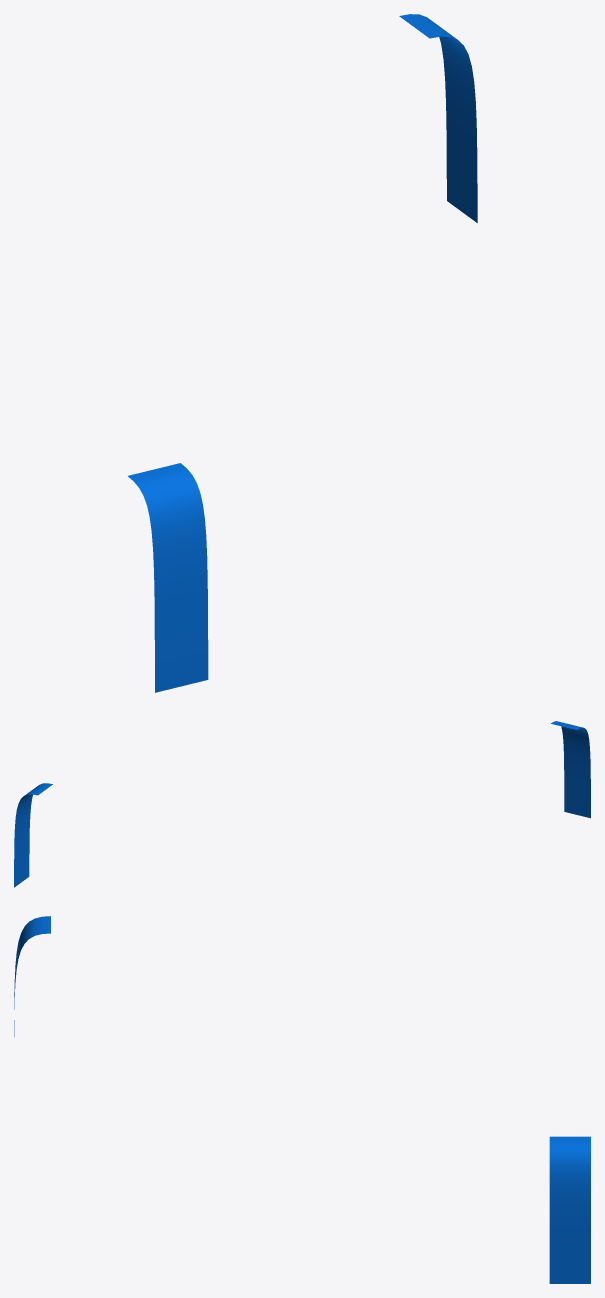
Rendered from cascade.gltf.
3 renders of one model, top to bottom at view 1: azimuth 30°, elevation 25°; view 2: azimuth 150°, elevation 25°; view 3: azimuth 270°, elevation 25°, orthographic. The views are drawn at different scales.
Visible parts, largest first — view 1: BezierCurve.013, BezierCurve.014; view 2: BezierCurve.013, BezierCurve.014; view 3: BezierCurve.014, BezierCurve.013.
Boxes of the visible parts, left/top/right/bottom form: BezierCurve.013: left=128, top=463, right=208, bottom=692; BezierCurve.014: left=399, top=14, right=477, bottom=222; BezierCurve.013: left=551, top=721, right=590, bottom=818; BezierCurve.014: left=14, top=783, right=52, bottom=887; BezierCurve.014: left=549, top=1136, right=590, bottom=1283; BezierCurve.013: left=14, top=916, right=50, bottom=1036.
Size of the model in its own units: 1.84 by 0.4775 by 1.9.
Materials: 1 (1 with a texture image).
